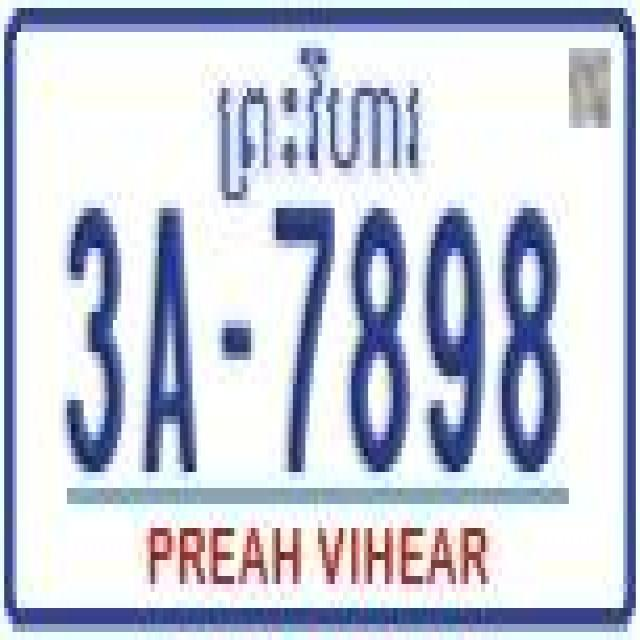Preah_Vihear: (213, 32, 431, 201)
